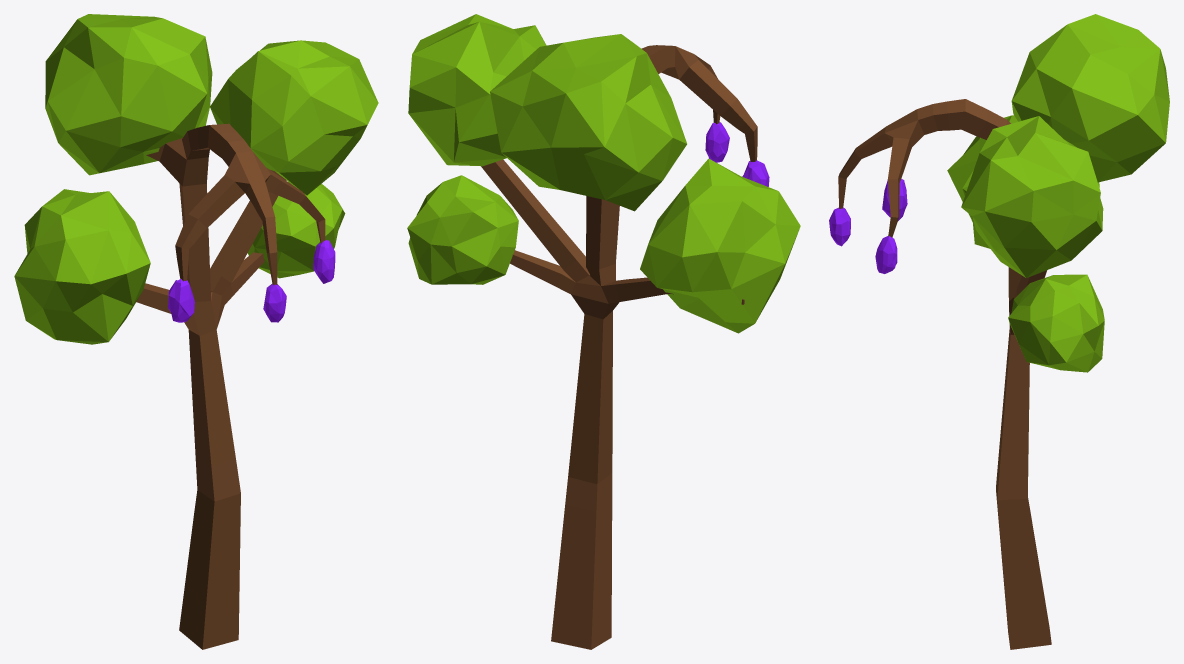
File: lantern.fbx
3 renders of one model, left to right at view 1: azimuth 30°, elevation 25°; view 2: azimuth 150°, elevation 25°; view 3: azimuth 270°, elevation 25°, orthographic. The views are drawn at different scales.
Visible parts, largest first — view 1: Vert, branch002, branch004, branch003, branch001, crystal, crystal.002, crystal.001; view 2: Vert, branch002, branch003, branch004, branch001, crystal.001; view 3: branch002, Vert, branch004, branch001, branch003, crystal.002, crystal.001.
Part boxes in pixels (bbox=[...]): Vert: bbox=[136, 123, 325, 649]; branch002: bbox=[45, 14, 212, 175]; branch004: bbox=[210, 40, 378, 195]; branch003: bbox=[14, 189, 150, 344]; branch001: bbox=[248, 181, 345, 278]; crystal: bbox=[168, 279, 194, 322]; crystal.002: bbox=[313, 240, 335, 283]; crystal.001: bbox=[263, 284, 286, 322]; Vert: bbox=[481, 45, 757, 649]; branch002: bbox=[490, 34, 686, 211]; branch003: bbox=[640, 158, 800, 333]; branch004: bbox=[408, 14, 546, 166]; branch001: bbox=[407, 175, 518, 284]; crystal.001: bbox=[705, 122, 729, 162]; branch002: bbox=[1011, 14, 1169, 182]; Vert: bbox=[838, 99, 1051, 649]; branch004: bbox=[961, 116, 1103, 277]; branch001: bbox=[1008, 274, 1104, 372]; branch003: bbox=[947, 115, 1099, 248]; crystal.002: bbox=[875, 236, 897, 273]; crystal.001: bbox=[829, 207, 850, 246].
Size of the model in its own units: 453 by 753 by 395.
